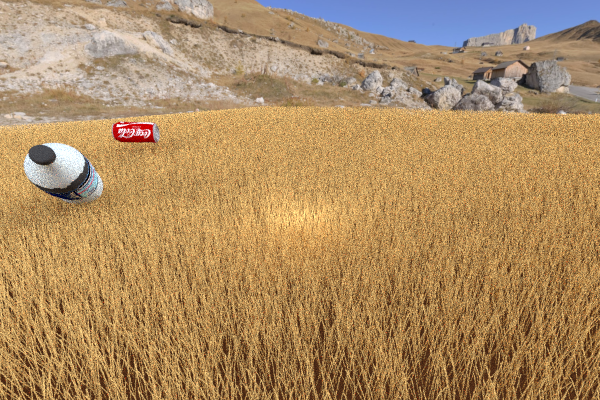Plastic Bottle: (23, 142, 103, 204), (517, 104, 572, 126), (111, 121, 159, 143)
